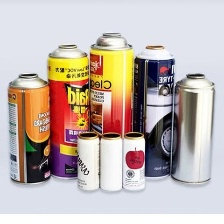aerosol_cans: (128, 41, 179, 183), (44, 38, 92, 181), (88, 29, 135, 174), (167, 69, 219, 187), (4, 69, 53, 186)
can: (74, 128, 103, 194), (95, 131, 123, 193), (120, 129, 147, 193)
